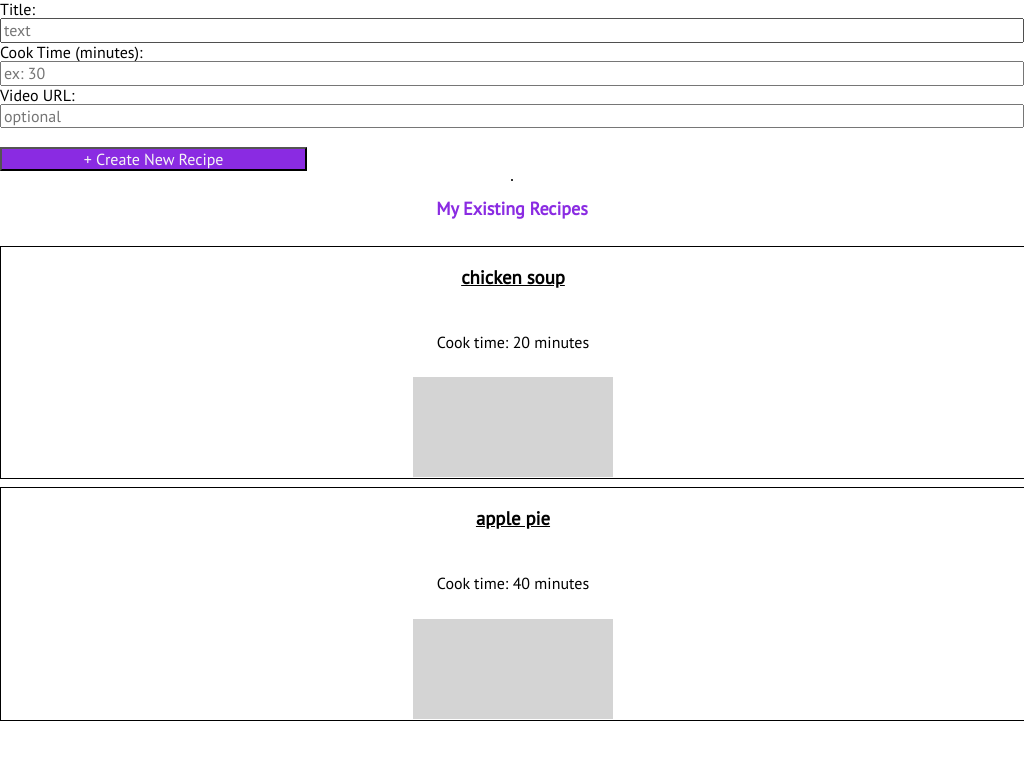
Recipes Component Tests › renders and interacts correctly
Expected: the heading "chicken soup" is shown, top-left (461, 266), bottom-right (565, 288)
Expected: the heading "apple pie" is shown, top-left (476, 508), bottom-right (550, 529)
In the field labelled "Title:": (512, 31) top-left (0, 18), bottom-right (1023, 43), type "Test Recipe"
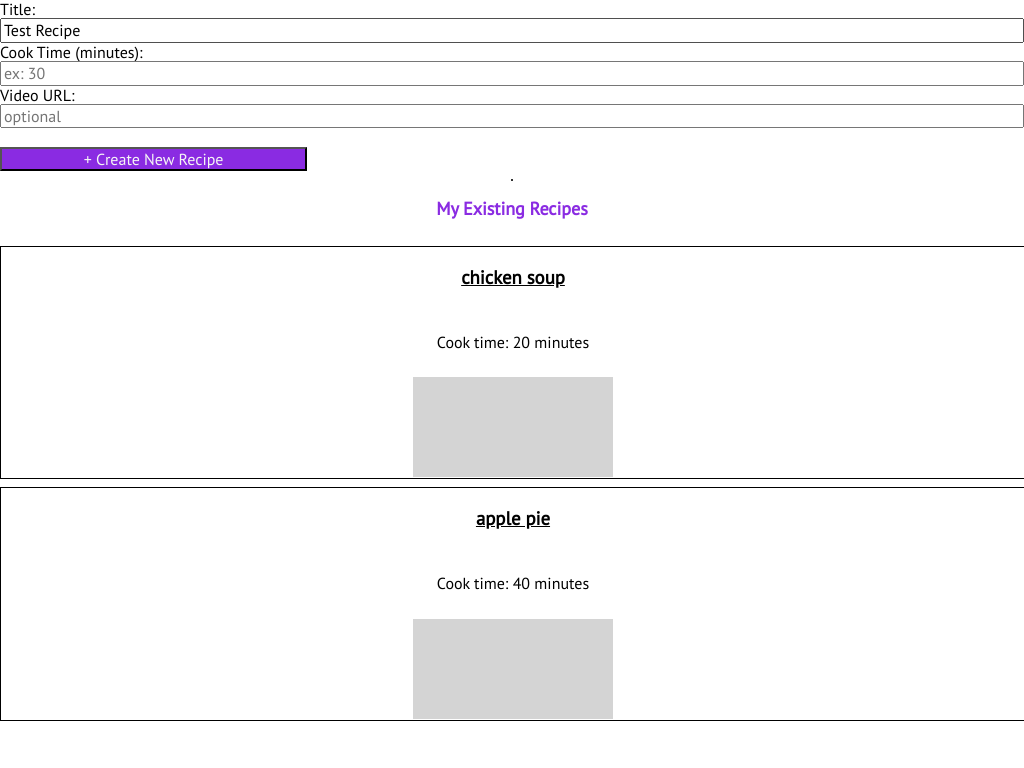
In the field labelled "Cook Time (minutes):": (512, 73) top-left (0, 61), bottom-right (1023, 86), type "30"
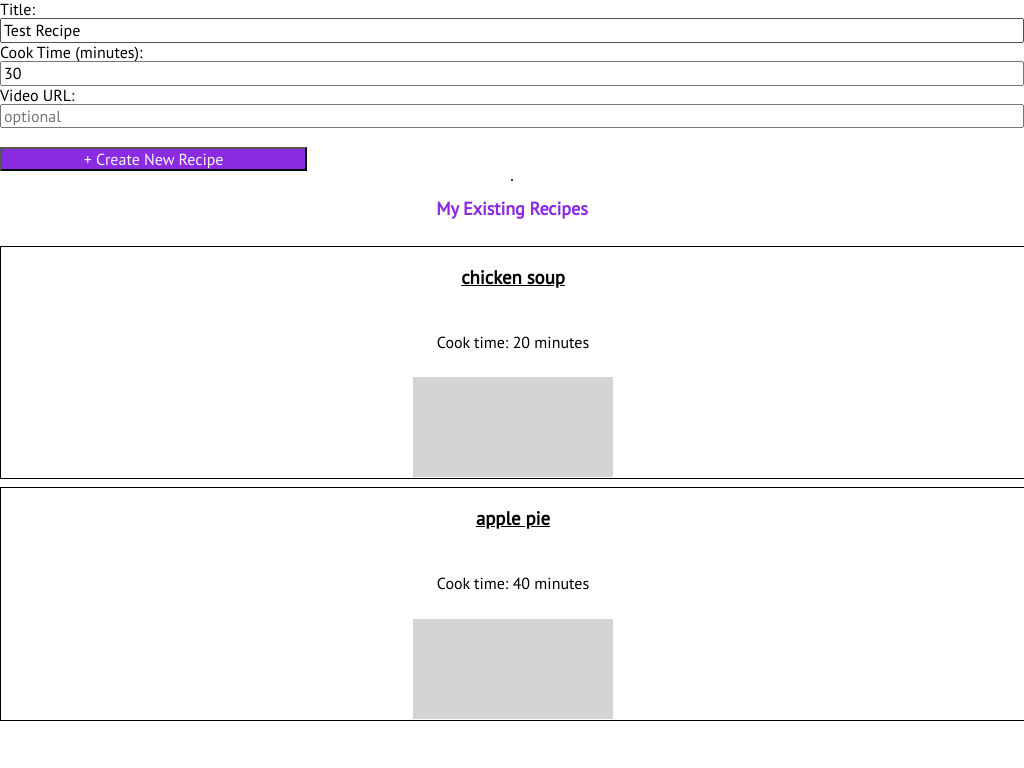
In the field labelled "Video URL:": (512, 116) top-left (0, 104), bottom-right (1023, 128), type "https://www.youtube.com/watch?v=12345"
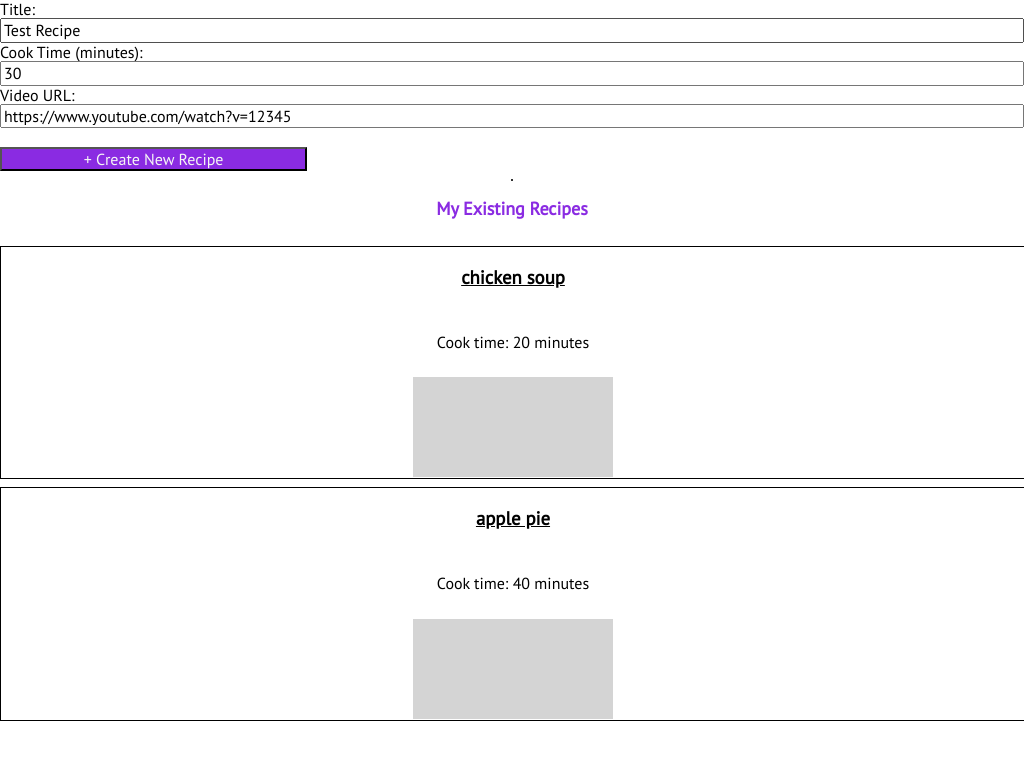
Click the button "+ Create New Recipe": (154, 159) top-left (0, 147), bottom-right (307, 171)
(page scrolled)
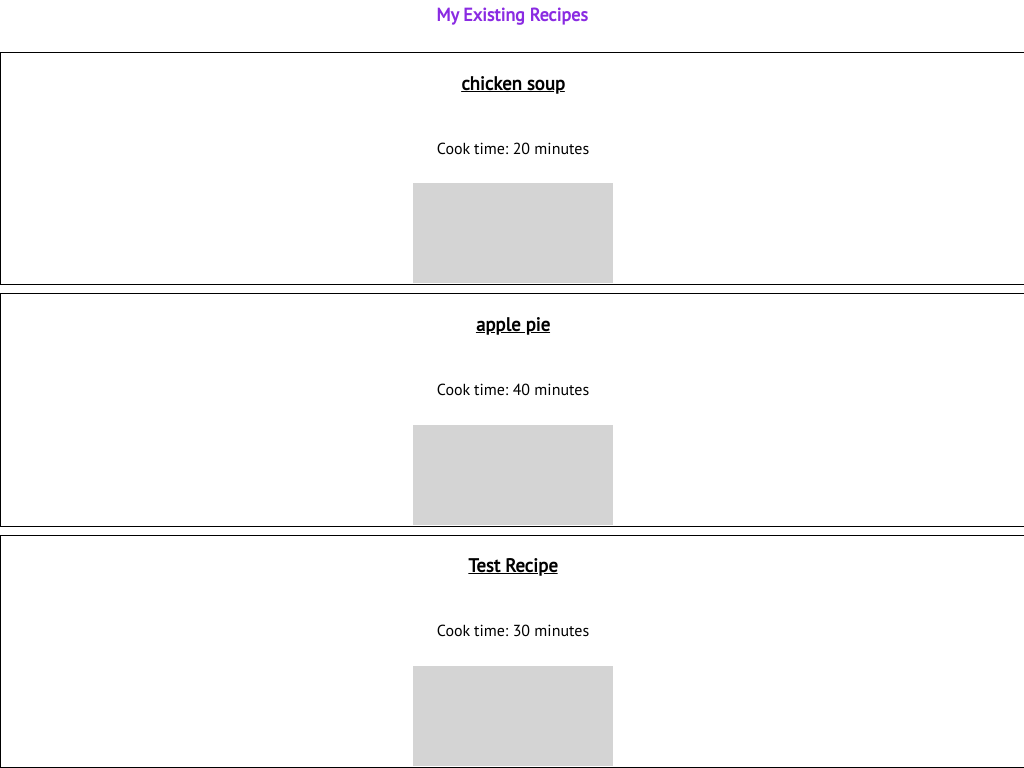
Expected: the heading "Test Recipe" is shown, top-left (468, 555), bottom-right (558, 577)
